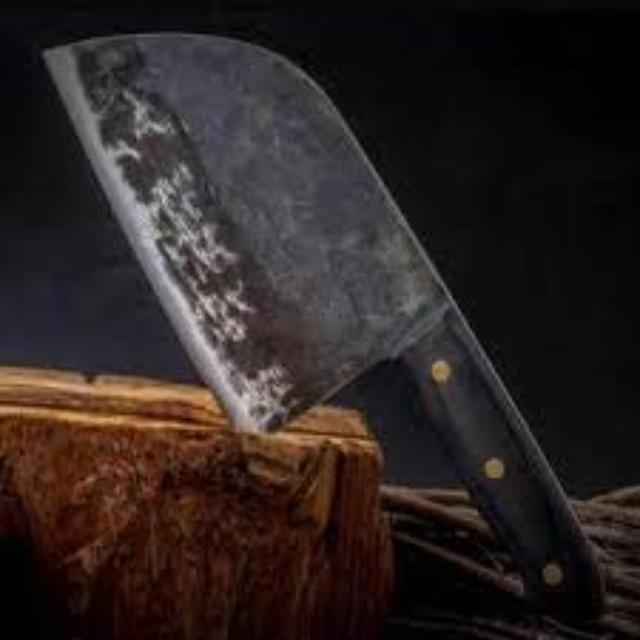knife: (37, 28, 603, 620)
